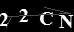2: (18, 8, 29, 23), (1, 12, 8, 27)
C: (38, 11, 54, 26)
N: (57, 14, 74, 29)
